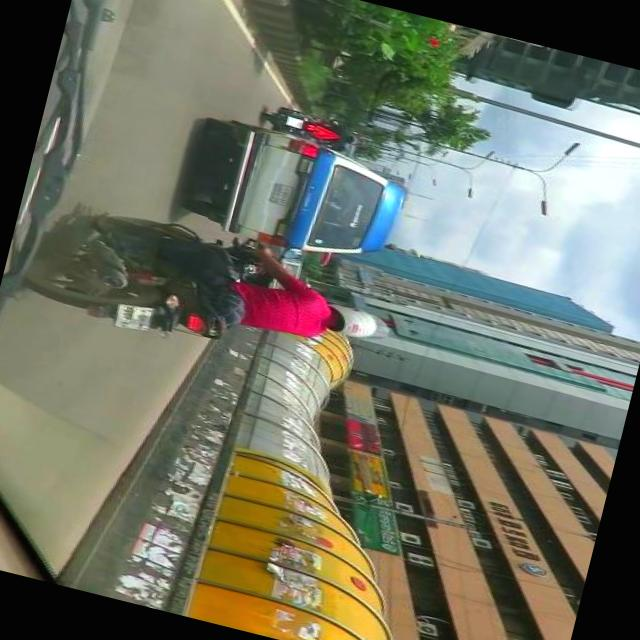motorcycle: (16, 182, 413, 396), (258, 102, 374, 158)
truck: (172, 111, 416, 276)
